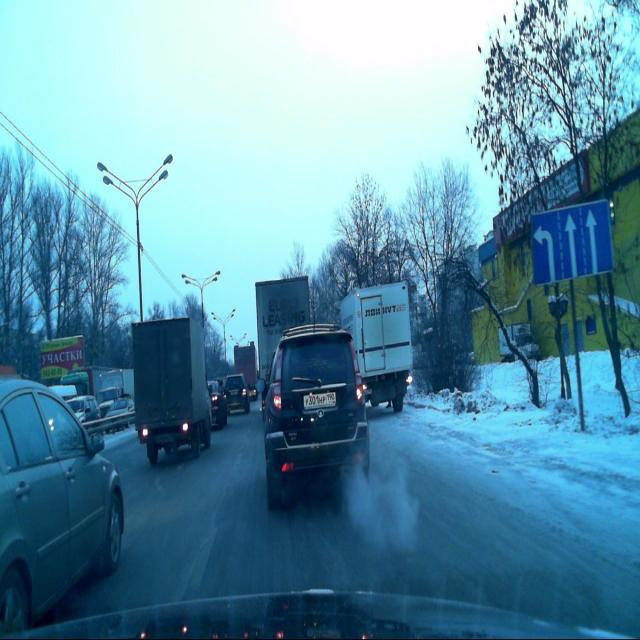object: (570, 283, 586, 432)
road sign: (530, 198, 614, 286)
